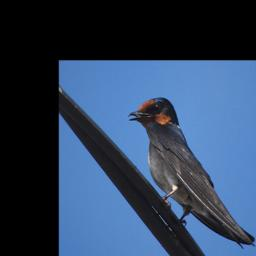Swallow: (128, 97, 256, 246)
